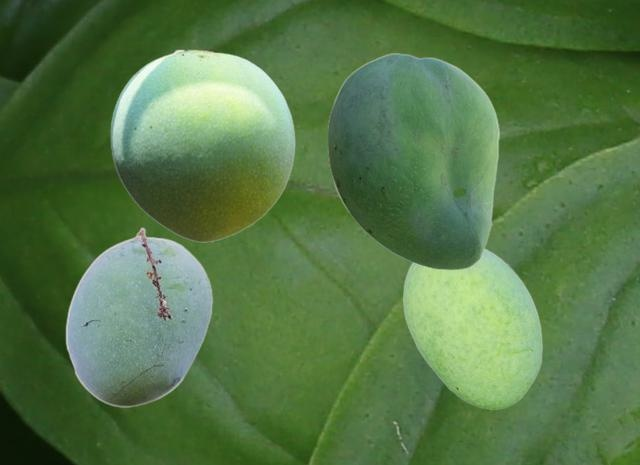green_mango: (327, 53, 498, 269), (110, 48, 294, 241), (65, 227, 212, 406), (403, 248, 541, 408)
